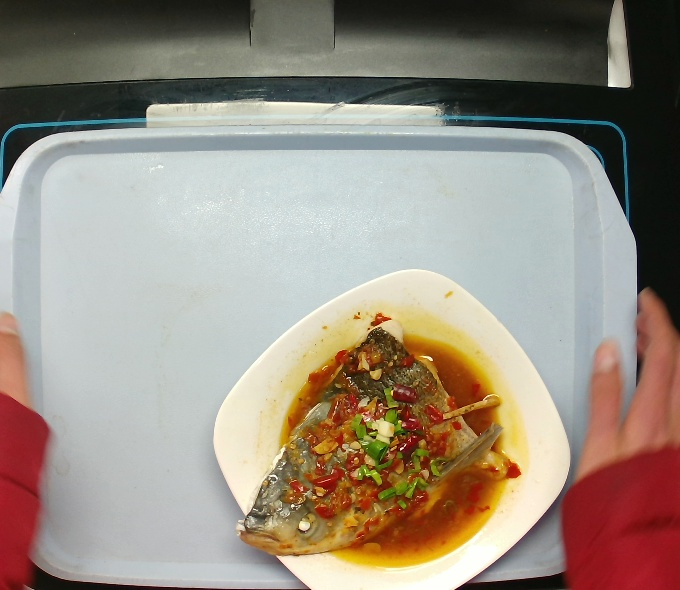wcq-DuoJiaoYuTou: (225, 291, 532, 566)
